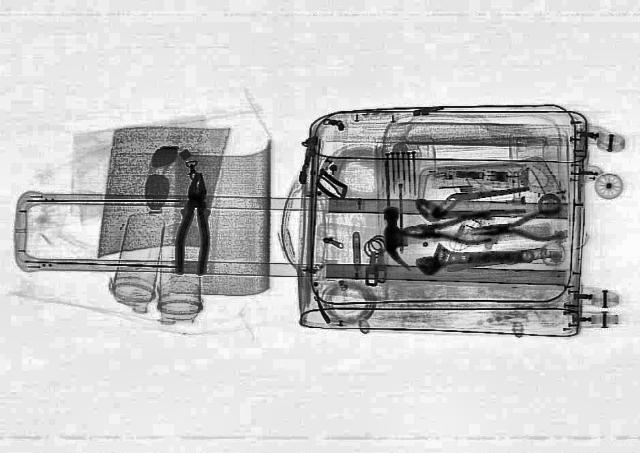Pliers: (172, 172, 216, 274), (464, 207, 564, 247), (399, 213, 491, 245)
Wrench: (412, 238, 534, 276)
